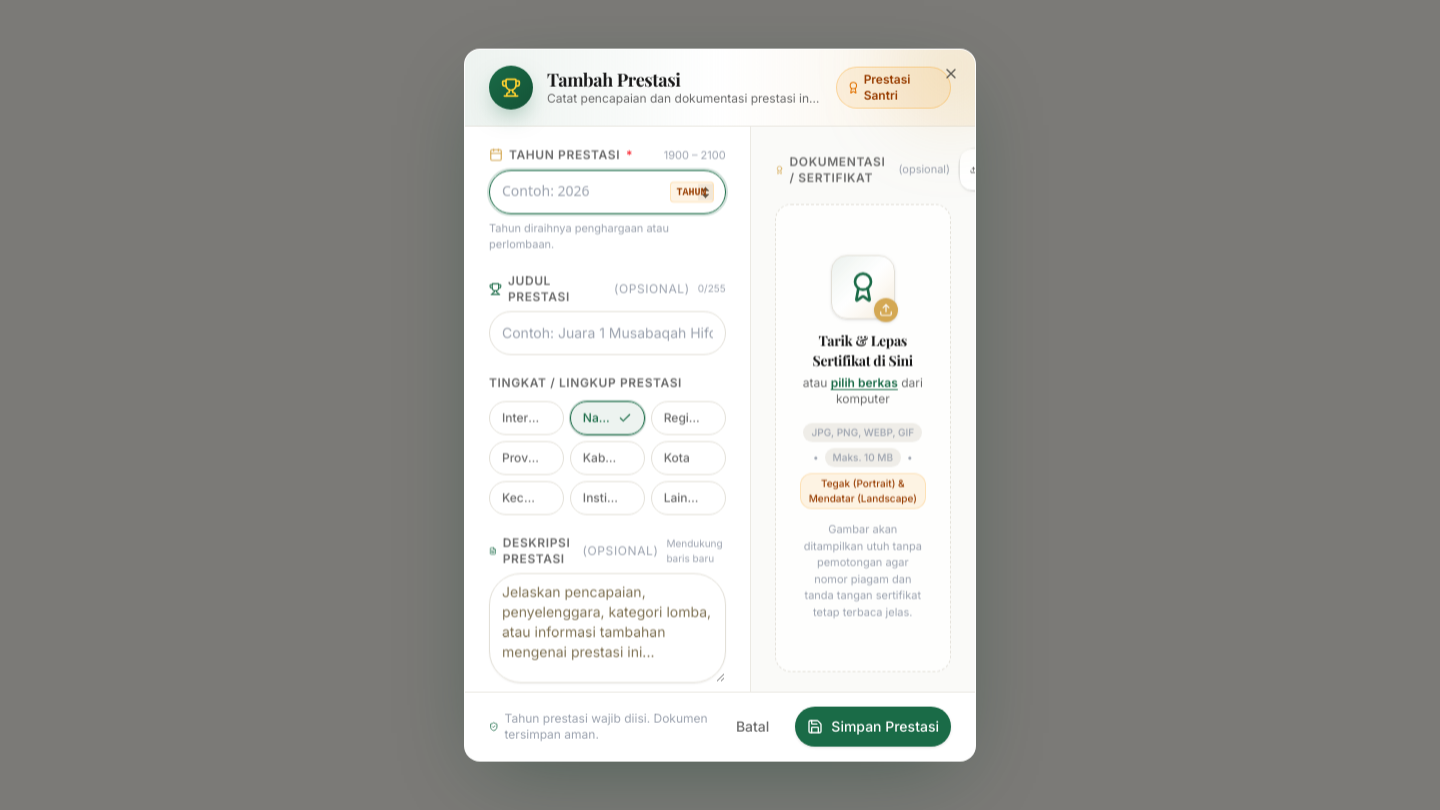
AchievementFormDialog UI & Behavior › memvalidasi tahun jika dikosongkan dan menampilkan pesan error
Click the button "Simpan Prestasi": (873, 726) x1=795 y1=706 x2=951 y2=746
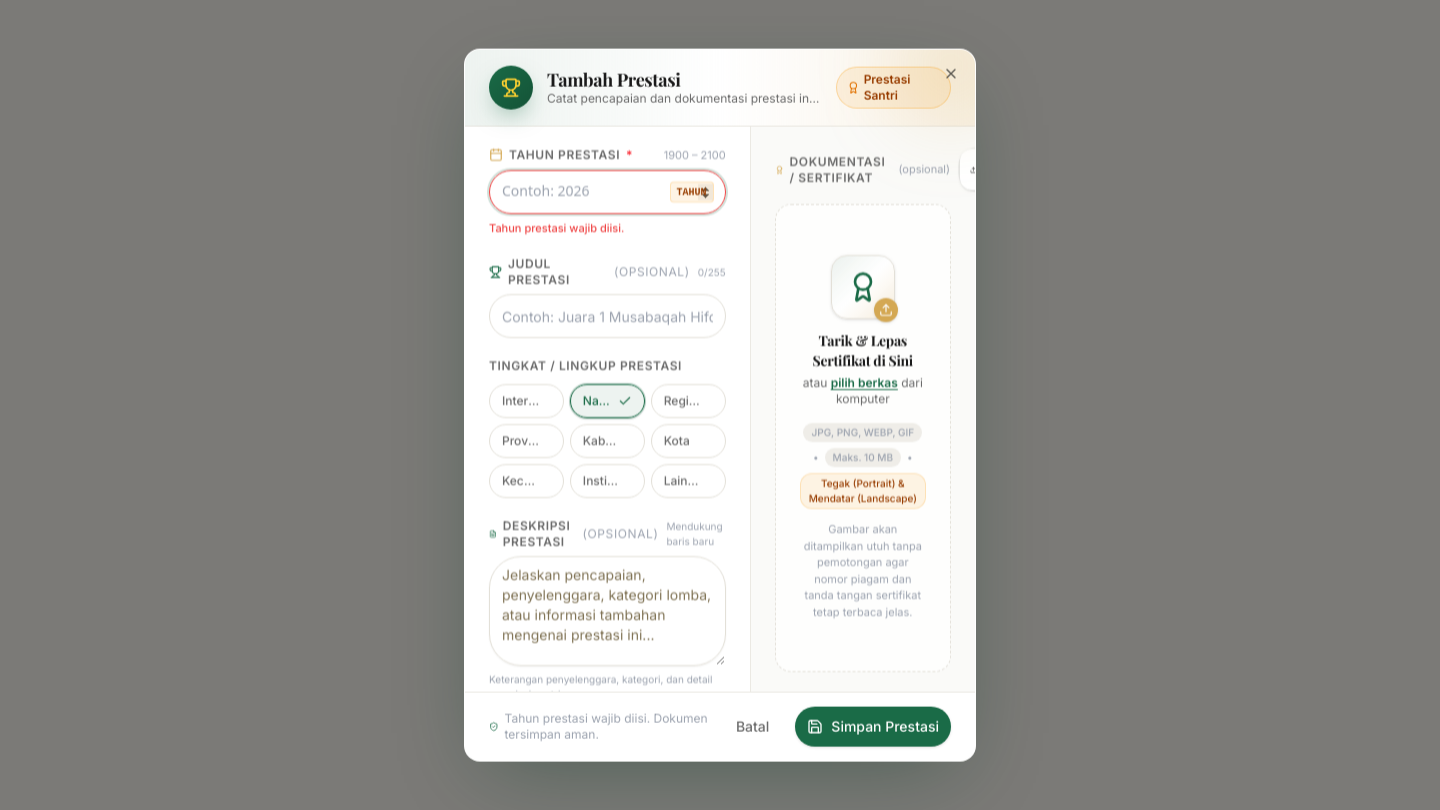
Check: the text "Tahun prestasi wajib diisi." is shown, box x1=489 y1=220 x2=624 y2=234
